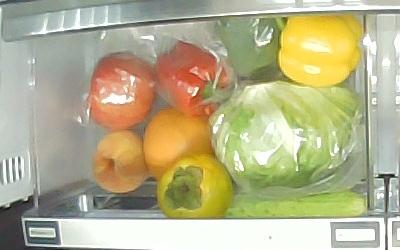apple_vinyl: (86, 52, 158, 129)
broccoli_vinyl: (216, 16, 279, 79)
cucumber_vinyl: (225, 190, 369, 217)
grapefruit: (143, 107, 214, 180)
lettuce_vinyl: (209, 81, 361, 189)
paprika: (274, 14, 363, 88)
paprika_vinyl: (156, 41, 234, 116)
peach: (92, 130, 150, 192)
persimmon: (156, 155, 233, 218)
